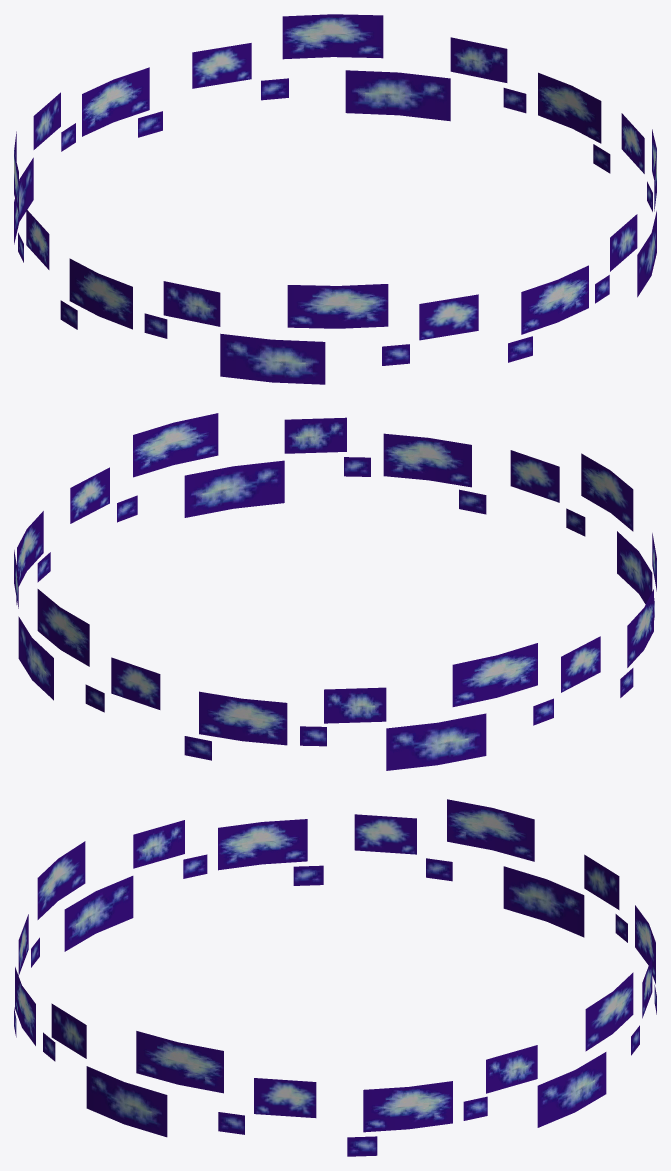
Rendered from SkyClouds.obj.
3 views of the same model, one above another, from view 1: azimuth 30°, elevation 25°; view 2: azimuth 150°, elevation 25°; view 3: azimuth 270°, elevation 25° (orthographic).
Bounding box in the file's own units: 8129 × 1366 × 8129.
1 material, 1 textured.
